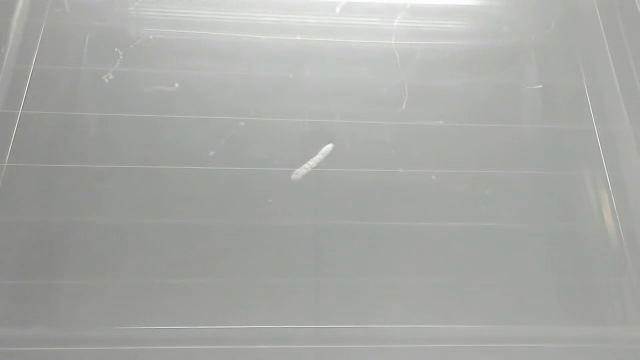alpha: (285, 141, 343, 183)
